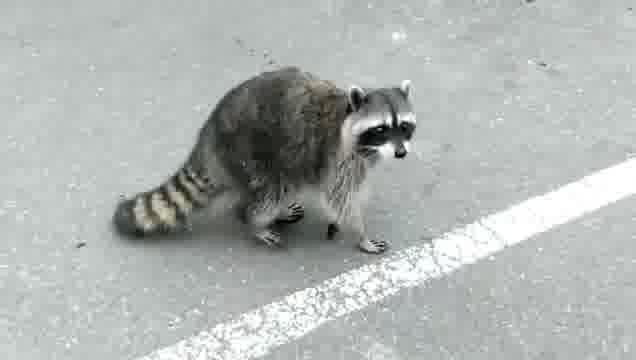raccoon: (116, 62, 417, 257)
